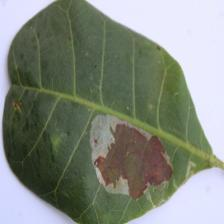leaf miner: (88, 113, 172, 200)
